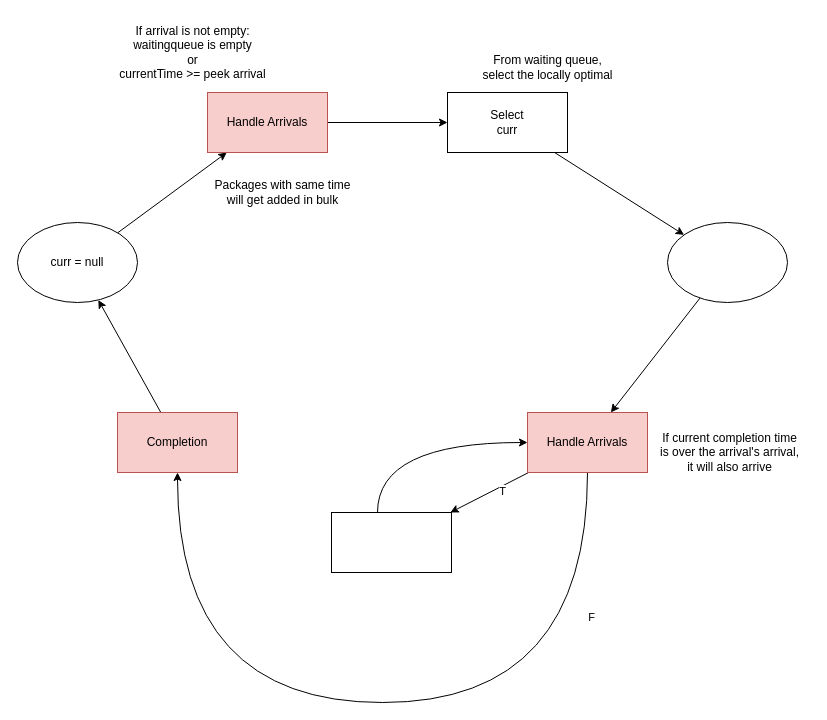
This 827x720 diagram has some shape labels left out. The shapes that lost their labels are listed below. From the top down, each one's box as (x1, y1, x2, y2) in pixels, then its label:
(666, 222, 788, 302): curr = p
(330, 512, 452, 572): Handle Preemption
